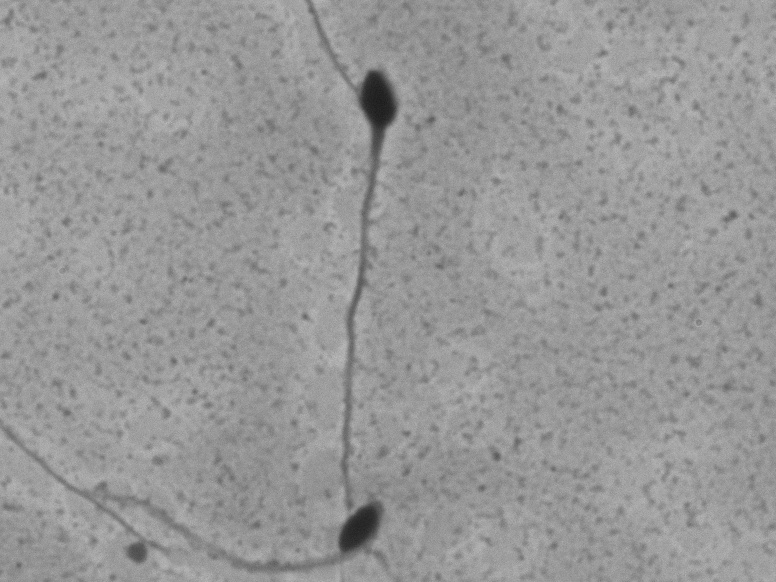Abnormal: (333, 55, 408, 518)
